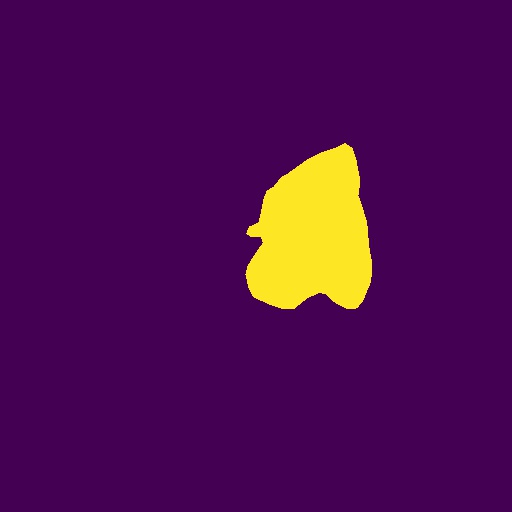Gliomia_tumour: (245, 143, 372, 309)
